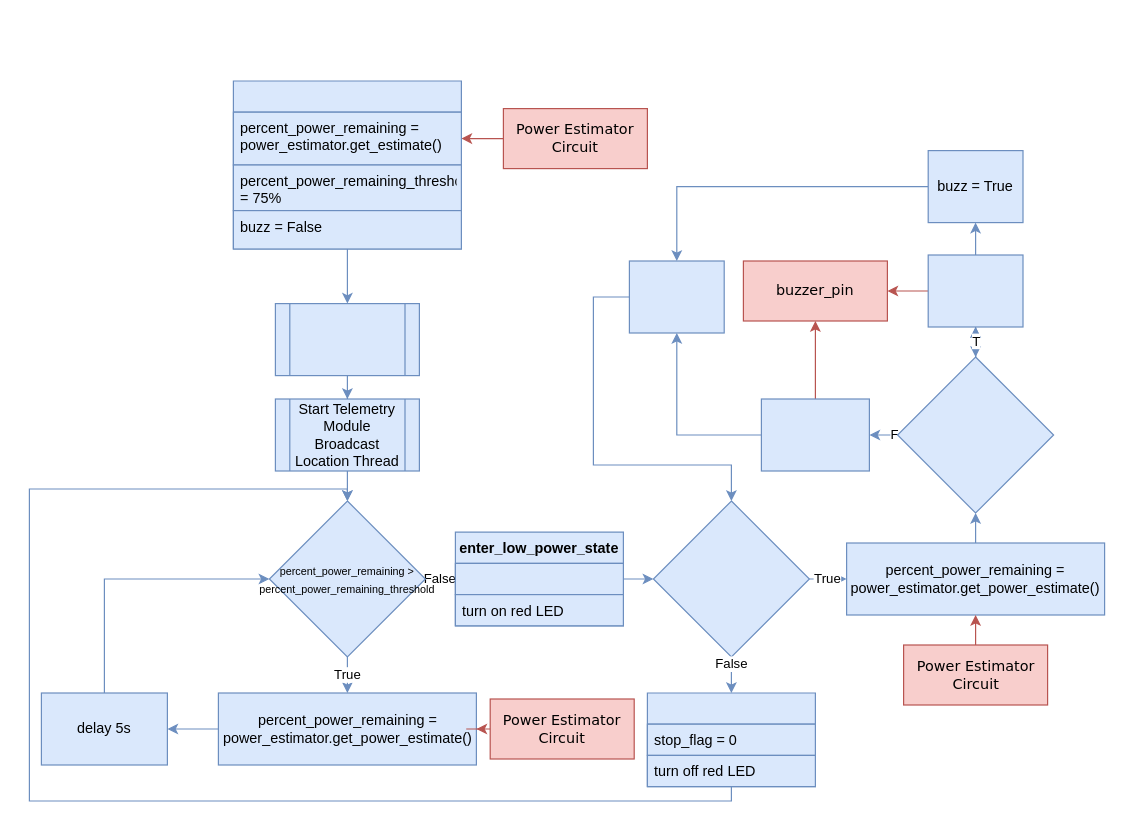
This 1126x832 diagram has some shape labels left out. Each missing label, with the box of its shape:
buzz: (896, 356, 1054, 513)
delay 1s: (628, 260, 724, 333)
enter_high_power_state: (646, 692, 815, 787)
initialize_variables: (232, 80, 461, 249)
percent_power_remaining <= percent_power_remaining_threshold: (652, 500, 809, 657)
set_high(): (927, 254, 1023, 327)
set_low(): (760, 398, 869, 471)
Start GPS Module Update Thread: (274, 302, 419, 376)
stop_flag = 1: (454, 562, 623, 595)
